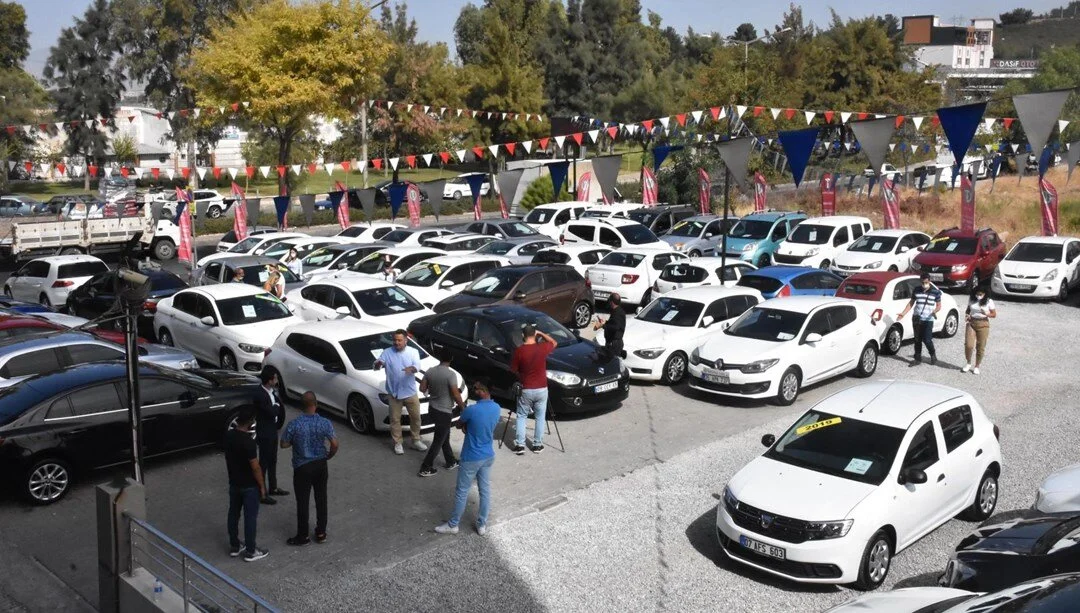Car: (715, 380, 1003, 590), (0, 358, 285, 503), (407, 305, 630, 415), (261, 320, 468, 433), (687, 296, 881, 405), (591, 285, 767, 383), (153, 281, 304, 375), (0, 330, 199, 388), (939, 512, 1080, 591), (833, 270, 960, 356), (431, 262, 595, 328), (824, 571, 1080, 613), (283, 276, 437, 333), (8, 215, 180, 265), (64, 268, 189, 331), (908, 226, 1008, 294), (393, 253, 514, 308), (584, 248, 687, 306), (990, 236, 1080, 300), (770, 215, 874, 270), (713, 208, 808, 268), (3, 254, 111, 306), (828, 229, 932, 278), (650, 256, 759, 302), (0, 314, 150, 345), (188, 255, 307, 294), (196, 231, 312, 269), (557, 213, 674, 250), (319, 247, 449, 280), (301, 242, 395, 284), (734, 265, 844, 300), (658, 214, 741, 257), (521, 201, 605, 240), (530, 243, 616, 277), (624, 202, 697, 237), (259, 236, 345, 265), (471, 237, 562, 264), (1032, 463, 1080, 514), (149, 189, 227, 219), (0, 308, 100, 331), (449, 218, 552, 239), (216, 224, 287, 252), (420, 233, 503, 255), (372, 226, 458, 247), (331, 223, 410, 244), (912, 163, 970, 191), (313, 189, 386, 211), (443, 172, 500, 200), (0, 192, 53, 217), (374, 180, 429, 202), (46, 193, 106, 213), (0, 295, 59, 313), (578, 202, 648, 216), (863, 162, 904, 181)
